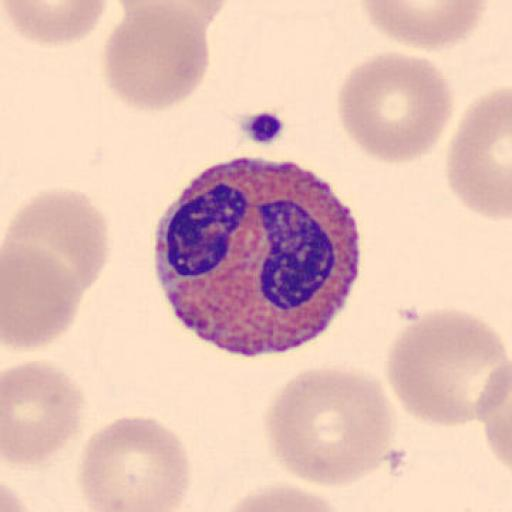RBC: (264, 364, 396, 488), (384, 306, 511, 427), (335, 50, 456, 166), (101, 1, 210, 112), (4, 188, 112, 294), (77, 414, 192, 512), (1, 358, 87, 468), (1, 239, 84, 351), (445, 88, 512, 221), (356, 0, 492, 51), (2, 0, 110, 47), (476, 360, 512, 474), (216, 482, 349, 512), (119, 0, 228, 32), (126, 0, 231, 24), (0, 474, 38, 511), (2, 482, 32, 512)
WBC: (151, 156, 365, 357)
